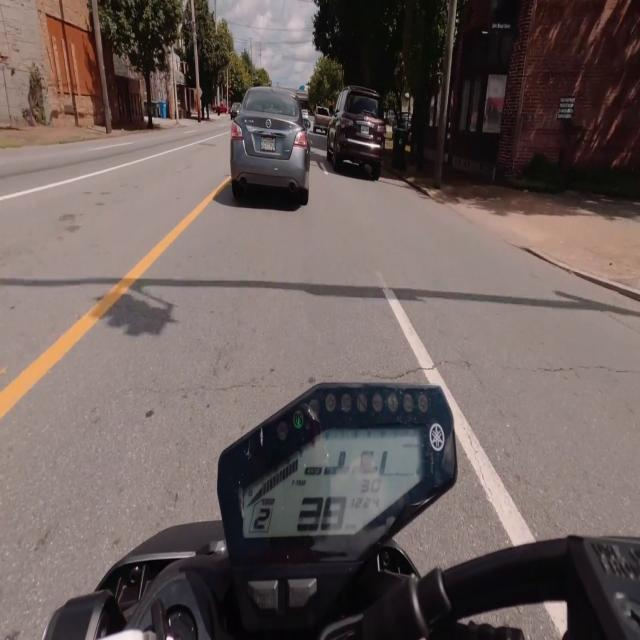car: (230, 87, 310, 205), (327, 86, 386, 180), (313, 107, 330, 132), (230, 102, 240, 119)
motorcycle: (44, 384, 639, 639)
